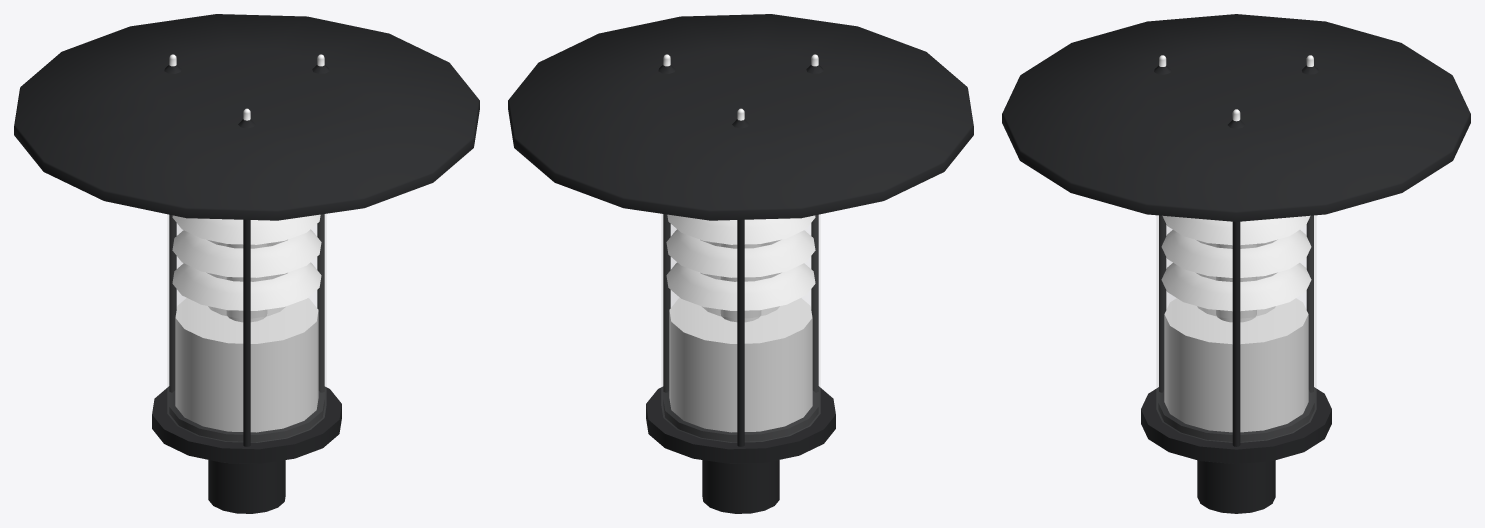
Rendered from Richard_IV.glb.
The picture shows the model from 3 angles, left to right: view 1: azimuth 30°, elevation 25°; view 2: azimuth 150°, elevation 25°; view 3: azimuth 270°, elevation 25°; orthographic projection.
Visible parts, largest first — view 1: BezierCurve.001, Glas, BezierCurve.003; view 2: BezierCurve.001, Glas, BezierCurve.003; view 3: BezierCurve.001, Glas, BezierCurve.003.
Boxes of the visible parts, x1,y1,x2,y2 form: BezierCurve.001: [14, 14, 479, 513]; Glas: [168, 214, 325, 442]; BezierCurve.003: [164, 54, 329, 446]; BezierCurve.001: [508, 14, 973, 513]; Glas: [662, 214, 819, 442]; BezierCurve.003: [658, 54, 823, 446]; BezierCurve.001: [1002, 14, 1470, 513]; Glas: [1157, 216, 1315, 441]; BezierCurve.003: [1154, 55, 1318, 446].
Size of the model in its own units: 0.599 by 0.5975 by 0.599.
Materials: 6 (4 with a texture image).
